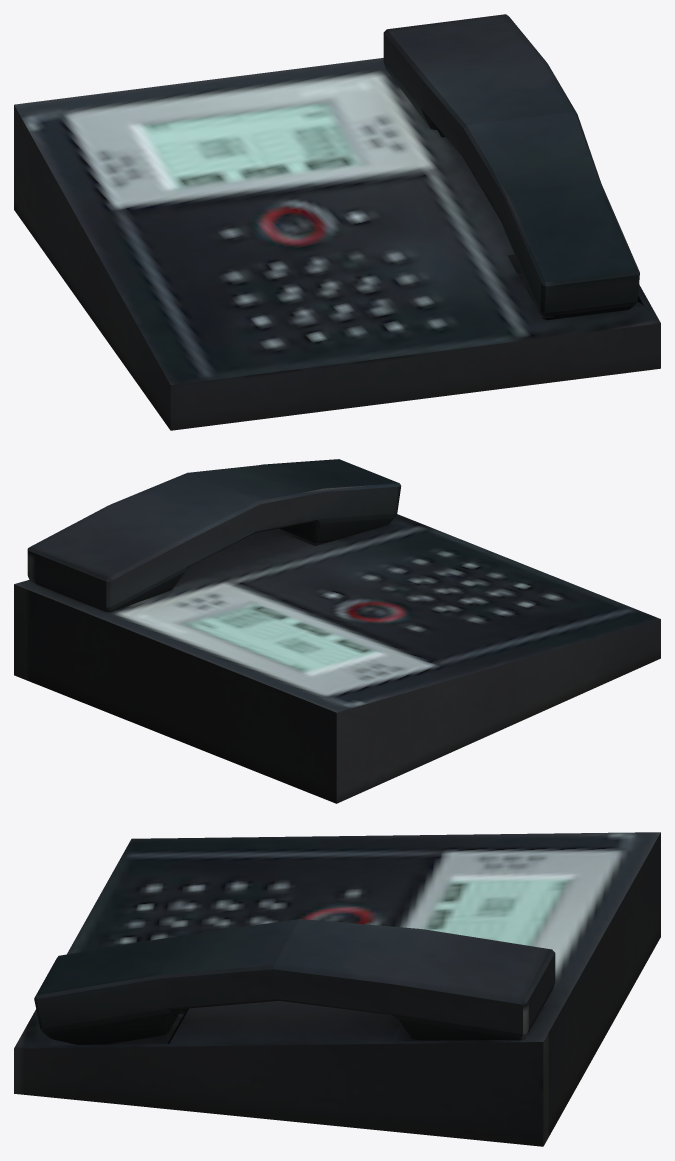
The model's file is 3Dgj_jyjy_dn_qyp01_a.FBX.
3 renders of one model, top to bottom at view 1: azimuth 30°, elevation 25°; view 2: azimuth 150°, elevation 25°; view 3: azimuth 270°, elevation 25°, orthographic. The views are drawn at different scales.
Visible parts, largest first — view 1: 3Dgj_jyjy_dn_qyp_02; view 2: 3Dgj_jyjy_dn_qyp_02; view 3: 3Dgj_jyjy_dn_qyp_02.
Part boxes in pixels (<box>): 3Dgj_jyjy_dn_qyp_02: <box>14,14,660,430</box>; 3Dgj_jyjy_dn_qyp_02: <box>14,459,660,803</box>; 3Dgj_jyjy_dn_qyp_02: <box>14,832,660,1146</box>.
Size of the model in its own units: 0.1959 by 0.0522 by 0.2039.
